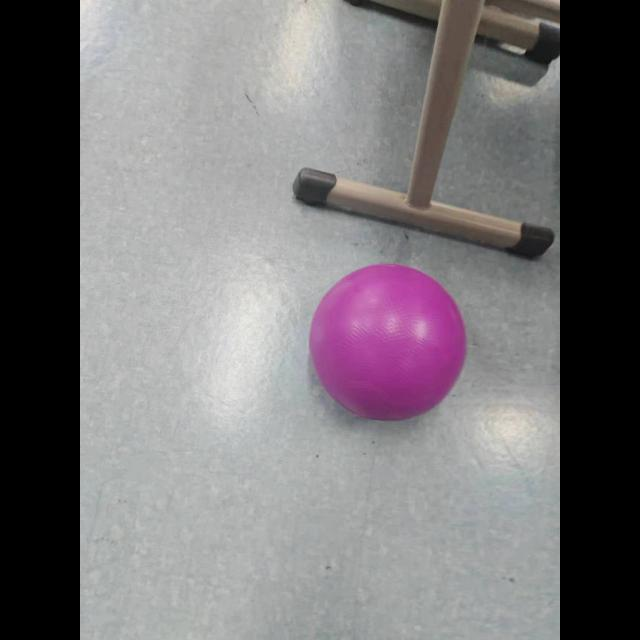P: (308, 263, 468, 423)
